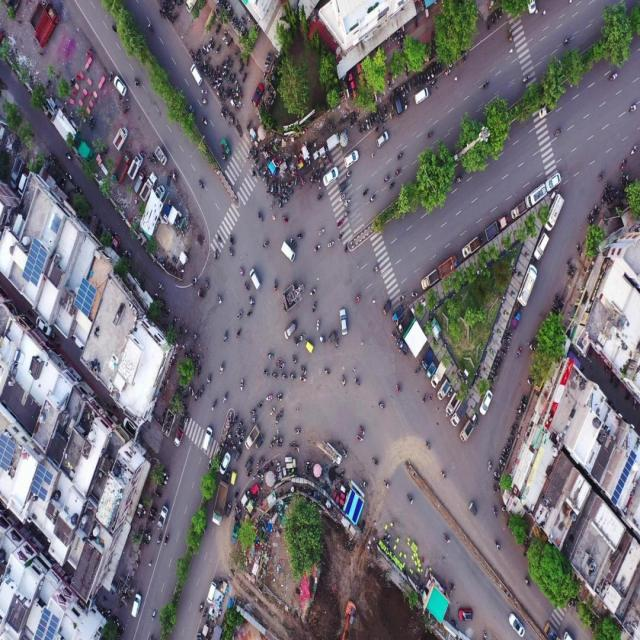3W: (220, 138, 232, 156), (468, 498, 478, 517), (327, 329, 338, 345), (304, 339, 314, 354), (255, 436, 265, 451), (383, 299, 390, 319), (338, 180, 348, 193), (225, 503, 233, 519), (234, 448, 242, 463), (244, 458, 253, 471), (231, 470, 237, 486)
Cars: (533, 230, 551, 261), (508, 612, 525, 637), (478, 389, 492, 415), (282, 319, 298, 339), (546, 172, 562, 192), (249, 266, 262, 290), (322, 167, 338, 186), (190, 63, 202, 88), (131, 592, 142, 619), (252, 82, 264, 106), (376, 129, 389, 151), (202, 424, 212, 452), (393, 88, 403, 116), (114, 75, 127, 96), (413, 86, 428, 104), (346, 148, 360, 167), (219, 452, 231, 474), (340, 306, 347, 338), (457, 608, 473, 622), (207, 579, 216, 603)
LCV: (515, 266, 539, 308), (545, 190, 565, 230), (526, 182, 546, 210), (324, 441, 344, 467), (420, 268, 440, 294), (437, 254, 458, 278), (140, 174, 156, 202), (128, 154, 145, 180), (451, 401, 467, 427), (462, 236, 480, 258), (445, 392, 460, 418), (244, 426, 260, 447), (114, 125, 128, 149), (512, 199, 526, 221), (419, 350, 433, 372), (433, 363, 445, 388), (437, 379, 450, 402), (154, 144, 168, 165), (460, 421, 474, 441), (280, 242, 294, 262), (396, 314, 410, 334), (326, 132, 340, 151), (133, 171, 145, 193), (158, 504, 168, 529), (397, 337, 408, 358), (174, 426, 184, 446), (392, 306, 404, 322), (511, 312, 521, 330), (426, 362, 436, 379)
M2W: (559, 35, 572, 48), (442, 530, 452, 546), (618, 158, 628, 171), (609, 71, 619, 84), (200, 96, 209, 110), (344, 169, 354, 181), (628, 102, 638, 114), (514, 345, 522, 360), (254, 210, 264, 222), (630, 143, 639, 156), (213, 246, 220, 262), (491, 506, 499, 520), (132, 79, 142, 90), (326, 239, 336, 250), (353, 294, 363, 305), (553, 128, 563, 139), (370, 456, 380, 467), (395, 150, 404, 162), (482, 78, 491, 90), (399, 291, 408, 303), (493, 540, 502, 552), (227, 234, 235, 247), (197, 178, 205, 191), (439, 469, 447, 482), (357, 422, 365, 435), (406, 492, 414, 505), (354, 434, 364, 444), (295, 232, 306, 241), (336, 219, 345, 230), (393, 166, 402, 177), (521, 74, 530, 85), (211, 397, 218, 411), (206, 371, 212, 387), (227, 246, 235, 258), (394, 382, 402, 394), (313, 243, 321, 255), (338, 193, 346, 205), (377, 399, 385, 411), (448, 579, 456, 591), (340, 375, 347, 388), (235, 327, 242, 340), (163, 533, 170, 546), (221, 152, 228, 165), (369, 192, 376, 205), (456, 172, 463, 185), (265, 394, 274, 404), (275, 392, 284, 402), (219, 359, 225, 374), (261, 369, 271, 378), (322, 367, 331, 377), (299, 366, 308, 376), (244, 308, 253, 318), (222, 328, 228, 343), (156, 532, 162, 547), (171, 168, 177, 183), (342, 208, 351, 218), (372, 264, 381, 274), (266, 350, 274, 361), (235, 309, 243, 320), (200, 115, 208, 126), (309, 287, 317, 298), (290, 237, 298, 248), (597, 171, 605, 182), (450, 617, 458, 628), (280, 405, 286, 419), (199, 384, 205, 398), (238, 265, 245, 277), (198, 600, 204, 614), (151, 608, 157, 622), (192, 274, 198, 288), (147, 21, 154, 33), (248, 295, 255, 307), (354, 378, 361, 390), (338, 230, 345, 242), (344, 198, 351, 210), (233, 46, 240, 58), (299, 375, 307, 385), (243, 282, 251, 292), (281, 215, 289, 225), (388, 180, 396, 190), (426, 129, 434, 139), (424, 441, 432, 451), (283, 193, 291, 203), (222, 391, 228, 404), (314, 319, 320, 332), (311, 300, 317, 313), (190, 104, 196, 117), (291, 354, 298, 365), (383, 479, 390, 490), (240, 376, 244, 395), (194, 388, 199, 403), (238, 418, 244, 430), (274, 357, 282, 366), (204, 278, 210, 290), (226, 430, 232, 442), (108, 70, 114, 82), (122, 96, 130, 105), (318, 228, 326, 237), (524, 577, 530, 589), (526, 378, 534, 387), (252, 147, 258, 159), (215, 23, 221, 35), (122, 105, 129, 115), (362, 188, 369, 198), (317, 192, 324, 202), (227, 37, 233, 48), (222, 29, 228, 40), (241, 423, 246, 436), (261, 169, 266, 182), (248, 408, 256, 416), (257, 400, 264, 409), (294, 427, 301, 436), (271, 371, 278, 380), (280, 371, 287, 380), (155, 492, 162, 501), (200, 47, 207, 56), (251, 414, 257, 424), (238, 436, 244, 446), (299, 332, 305, 342), (294, 336, 299, 348), (290, 370, 296, 380), (273, 277, 277, 292), (188, 386, 194, 396), (254, 156, 259, 168), (239, 63, 245, 73), (207, 38, 213, 48), (228, 60, 234, 70), (403, 83, 408, 95), (431, 78, 437, 88), (432, 65, 437, 77), (352, 113, 357, 125), (335, 336, 339, 350), (510, 424, 518, 431), (508, 429, 515, 437), (502, 343, 510, 350), (144, 530, 151, 538), (147, 517, 155, 524), (401, 84, 405, 98), (274, 413, 279, 424), (195, 48, 200, 59), (270, 406, 276, 415), (280, 362, 286, 371), (384, 173, 390, 182), (184, 415, 190, 424), (241, 72, 247, 81), (383, 104, 387, 117), (366, 118, 370, 131), (362, 121, 366, 134), (349, 116, 353, 129), (147, 155, 152, 165), (299, 175, 304, 185), (258, 163, 263, 173), (210, 41, 215, 51), (214, 66, 219, 76), (222, 65, 227, 75), (226, 73, 231, 83), (231, 72, 236, 82), (407, 80, 412, 90), (497, 465, 504, 472), (234, 412, 238, 424), (263, 240, 269, 248), (294, 174, 298, 186), (387, 79, 391, 91), (412, 76, 416, 88), (375, 120, 379, 132), (368, 116, 372, 128), (315, 168, 318, 183), (226, 55, 231, 64), (344, 242, 348, 253), (264, 175, 268, 186), (438, 62, 442, 73), (357, 125, 361, 136), (370, 114, 374, 125), (520, 401, 527, 407), (515, 408, 522, 414), (500, 349, 506, 356), (496, 357, 503, 363), (492, 365, 498, 372), (149, 511, 155, 518), (203, 45, 209, 52), (220, 61, 226, 68), (421, 72, 424, 86), (426, 70, 429, 84), (502, 448, 510, 453), (501, 454, 506, 462), (414, 368, 419, 376), (152, 154, 156, 164), (180, 413, 184, 423), (321, 162, 325, 172), (216, 44, 220, 54), (378, 109, 382, 119), (89, 114, 92, 127), (278, 182, 281, 195), (274, 181, 277, 194), (416, 75, 419, 88), (92, 118, 95, 130), (494, 472, 500, 478), (140, 152, 146, 158), (318, 171, 321, 183), (287, 189, 293, 195), (239, 88, 242, 100), (424, 72, 427, 84), (430, 67, 433, 79), (380, 120, 386, 126), (506, 438, 513, 443), (279, 196, 284, 203), (235, 80, 238, 91), (499, 460, 505, 465), (234, 440, 236, 453), (284, 181, 286, 192), (281, 181, 283, 192)
Truck: (35, 6, 58, 44), (211, 478, 229, 526), (114, 151, 130, 185)
